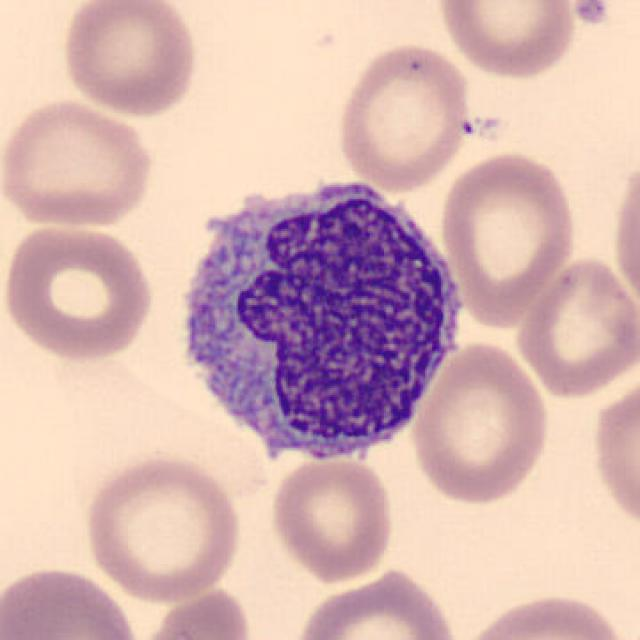Monocyte: (162, 162, 476, 483)
Platelets: (572, 0, 610, 25)
RBC: (436, 146, 580, 328), (80, 450, 245, 604), (407, 337, 553, 508), (0, 219, 158, 363), (332, 39, 474, 192), (0, 95, 158, 231), (512, 254, 638, 400), (57, 0, 201, 120), (266, 453, 396, 585), (288, 566, 464, 640), (434, 0, 581, 81), (0, 562, 146, 640), (455, 587, 633, 640), (588, 365, 638, 538), (137, 583, 256, 640), (608, 153, 640, 323)
